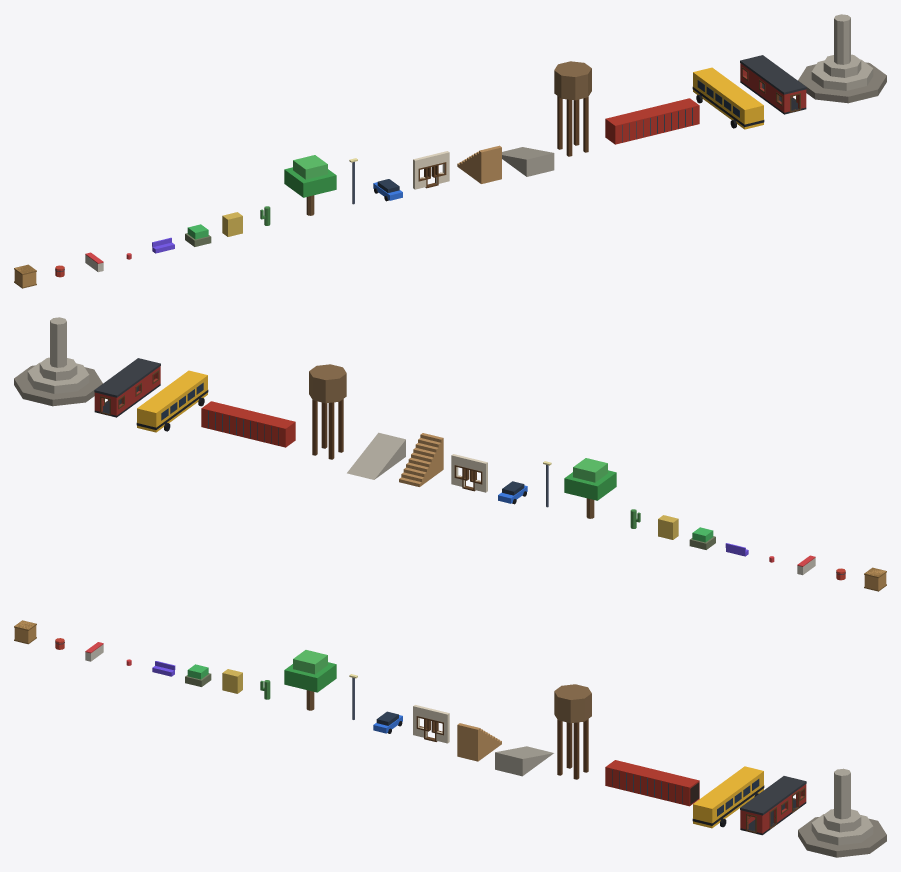
The model's file is shared-kit.glb.
3 renders of one model, top to bottom at view 1: azimuth 30°, elevation 25°; view 2: azimuth 150°, elevation 25°; view 3: azimuth 330°, elevation 25°, orthographic.
Parts seen in each view (by area): view 1: shared_Container_cRed, shared_Monument_stone, shared_Bus_busY, shared_Monument_stoneDark, shared_WaterTower_frame, shared_WaterTower_tank, shared_Stairs_wood, shared_Carriage_trainRoof, shared_Ramp_stone, shared_Carriage_train, shared_Tree_leaf, shared_WindowWall_plaster (+1 smaller); view 2: shared_Container_cRed, shared_Monument_stone, shared_Bus_busY, shared_Ramp_stone, shared_Stairs_wood, shared_Monument_stoneDark, shared_WaterTower_frame, shared_WaterTower_tank, shared_Carriage_trainRoof, shared_Carriage_train, shared_Tree_leaf, shared_WindowWall_plaster (+1 smaller); view 3: shared_Monument_stone, shared_Container_cRed, shared_Bus_busY, shared_Monument_stoneDark, shared_WaterTower_frame, shared_WaterTower_tank, shared_Stairs_wood, shared_Ramp_stone, shared_Carriage_trainRoof, shared_Tree_leaf, shared_Carriage_train, shared_WindowWall_plaster (+1 smaller).
Part boxes in pixels (x1,y1,x2,y2): shared_Container_cRed: (605,98,699,144); shared_Monument_stone: (811,14,873,90); shared_Bus_busY: (693,67,763,129); shared_Monument_stoneDark: (798,62,886,103); shared_WaterTower_frame: (557,96,588,156); shared_WaterTower_tank: (554,61,591,100); shared_Stairs_wood: (457,145,501,183); shared_Carriage_trainRoof: (740,55,806,94); shared_Ramp_stone: (502,147,554,176); shared_Carriage_train: (740,63,806,112); shared_Tree_leaf: (284,167,336,197); shared_WindowWall_plaster: (413,151,449,189); shared_Container_cRed: (201,401,295,447); shared_Monument_stone: (27,317,89,393); shared_Bus_busY: (137,370,207,432); shared_Ramp_stone: (347,432,405,479); shared_Stairs_wood: (399,433,443,486); shared_Monument_stoneDark: (14,365,102,406); shared_WaterTower_frame: (312,399,343,459); shared_WaterTower_tank: (309,364,346,403); shared_Carriage_trainRoof: (94,358,160,397); shared_Carriage_train: (94,366,160,415); shared_Tree_leaf: (564,470,616,500); shared_WindowWall_plaster: (451,454,487,492); shared_Monument_stone: (811,768,873,845); shared_Container_cRed: (605,760,699,806); shared_Bus_busY: (693,766,763,828); shared_Monument_stoneDark: (798,817,886,857); shared_WaterTower_frame: (557,719,588,779); shared_WaterTower_tank: (554,684,591,723); shared_Stairs_wood: (457,723,501,761); shared_Ramp_stone: (495,746,553,776); shared_Carriage_trainRoof: (740,776,806,815); shared_Tree_leaf: (284,662,336,692); shared_Carriage_train: (740,784,806,833); shared_WindowWall_plaster: (413,705,449,743).
Size of the model in its own units: 124 by 11.38 by 13.04.
